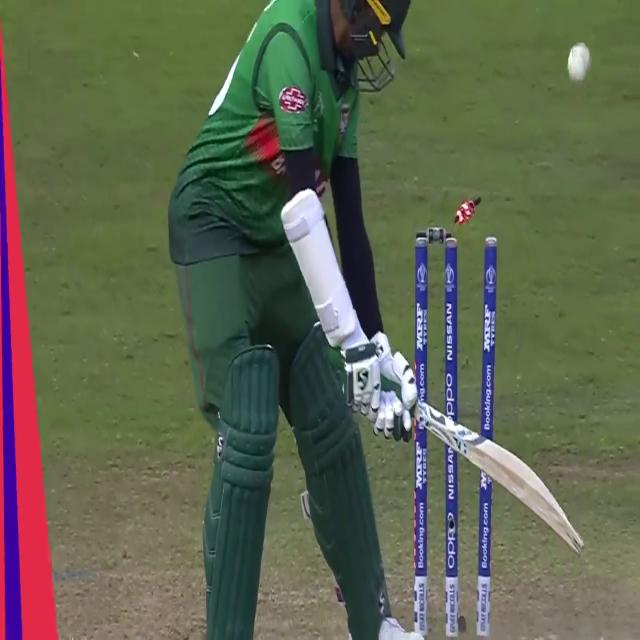ball: (562, 40, 592, 86)
